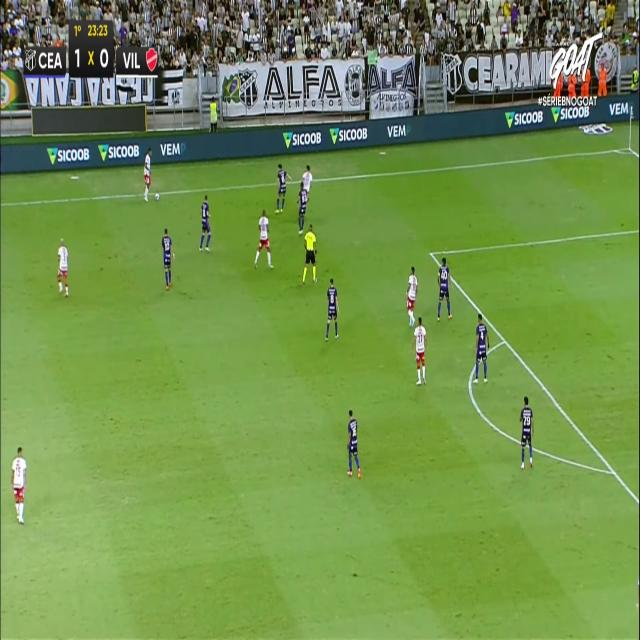ball: (153, 191, 160, 202)
player: (12, 446, 27, 524), (254, 207, 273, 268), (472, 314, 489, 382), (436, 255, 452, 321), (520, 396, 534, 467), (347, 408, 361, 477), (413, 316, 427, 383), (326, 277, 339, 340), (296, 180, 310, 235), (406, 264, 418, 327), (275, 162, 290, 212), (162, 228, 174, 290), (57, 237, 69, 296), (199, 195, 211, 252), (142, 147, 152, 202), (303, 163, 313, 194)
referee: (301, 222, 317, 284)
